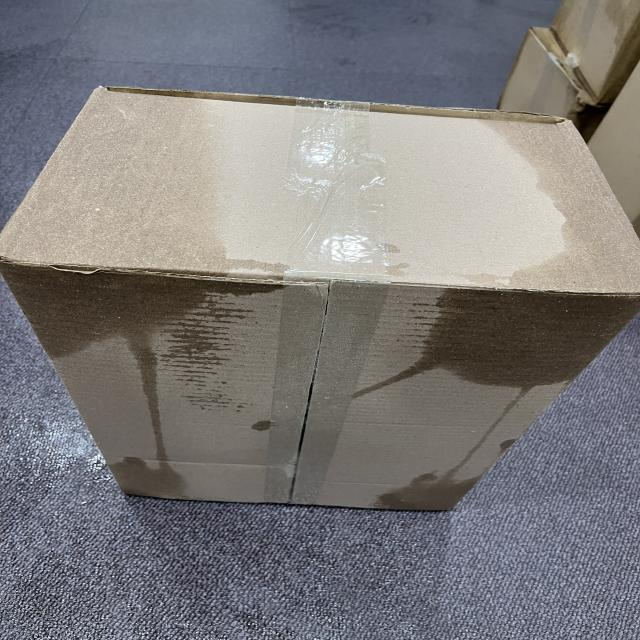wet: (0, 79, 234, 336), (465, 102, 640, 296), (437, 285, 640, 390), (377, 457, 495, 525), (108, 442, 206, 504)
